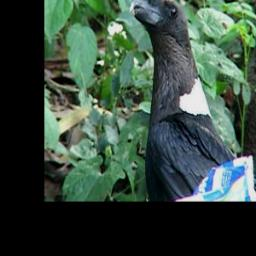Crow: (128, 0, 246, 200)
